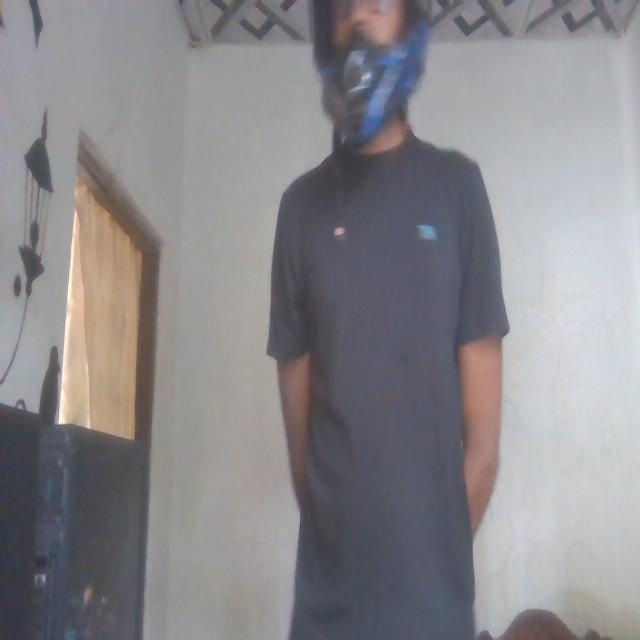Helmet_Wearer: (312, 0, 434, 146)
Person: (269, 0, 491, 640)
